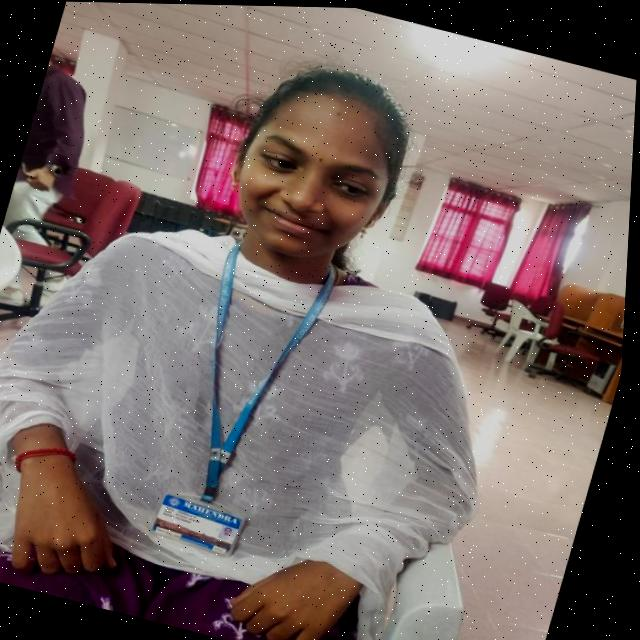id_card: (147, 231, 328, 562)
